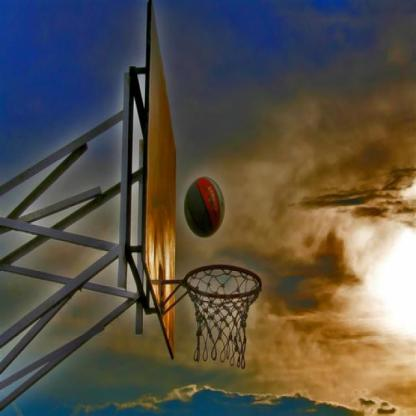basketball: (187, 178, 225, 238)
